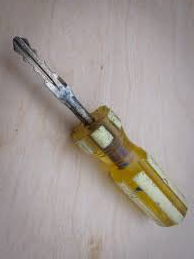screwdriver: (9, 30, 192, 242)
